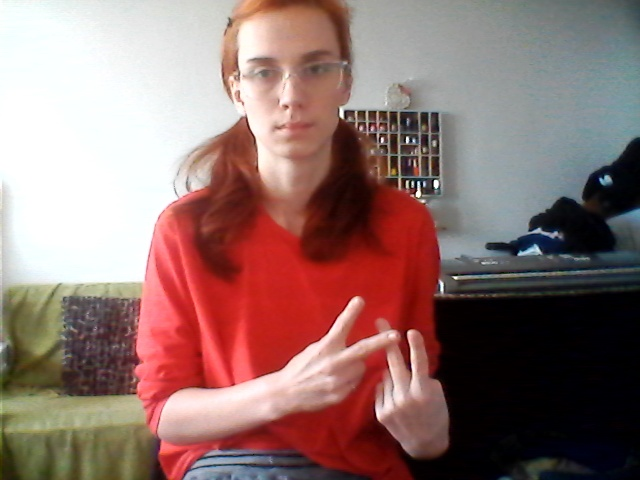w: (297, 290, 457, 436)
